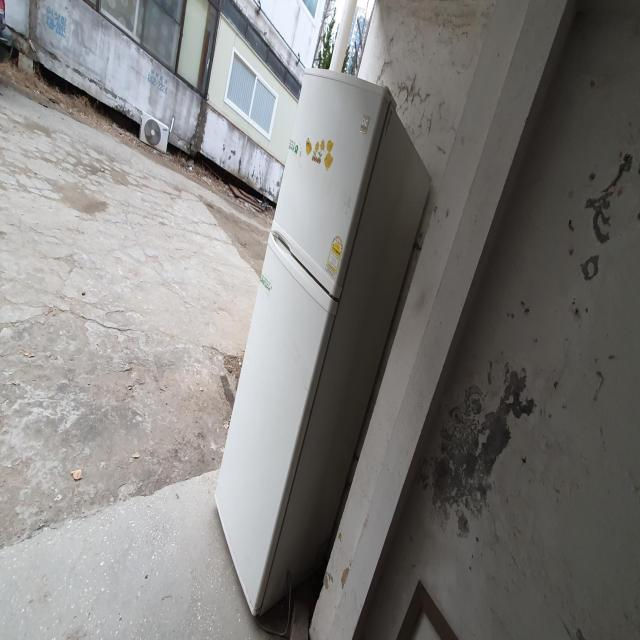refrigerator: (214, 67, 432, 619)
